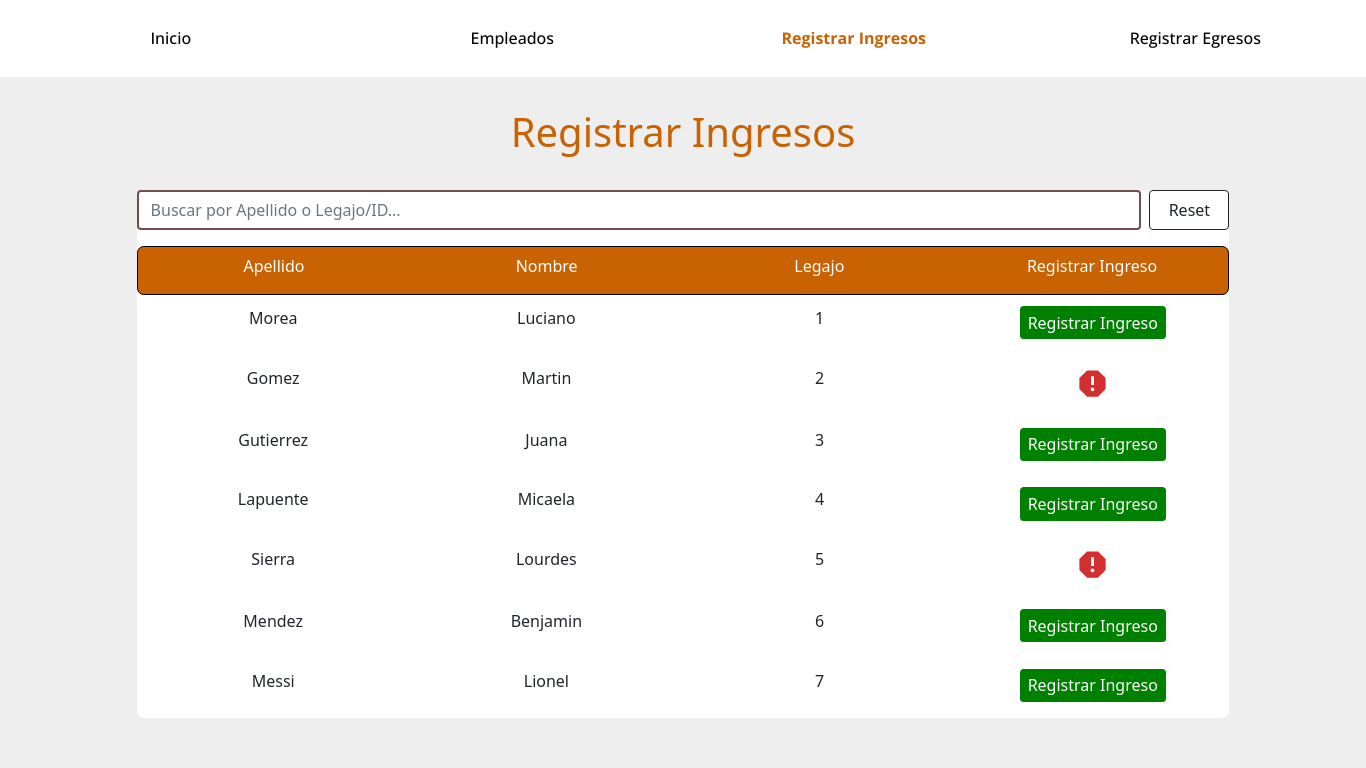
Test: Ingresos › tooltip se encuentra trabajando
Click the link "Registrar Ingresos" at (854, 38), box [782,26,926,50]
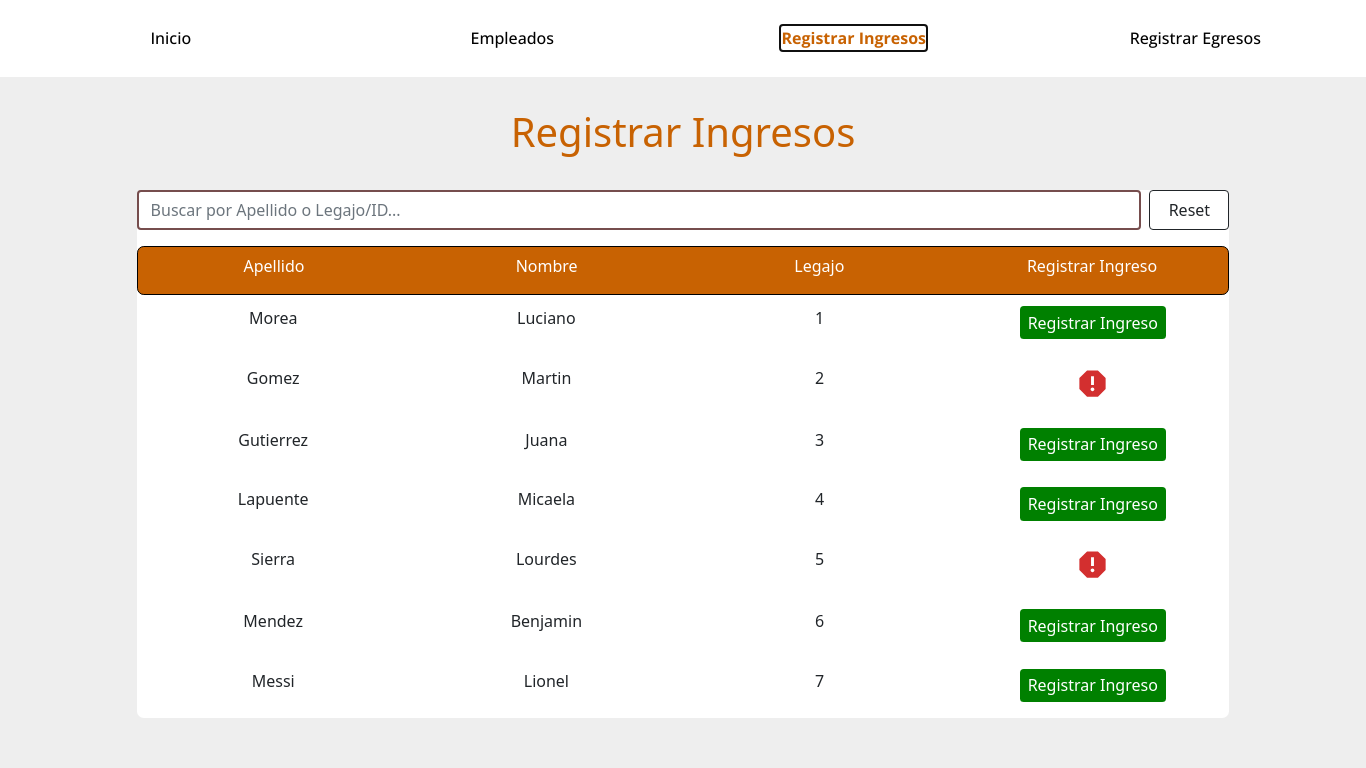
Expected: the search field is shown, [137,190,1141,230]
Hover over the icon with test id "ReportIcon" in the row of "Martin" at (1093, 384), box [1075,366,1110,401]
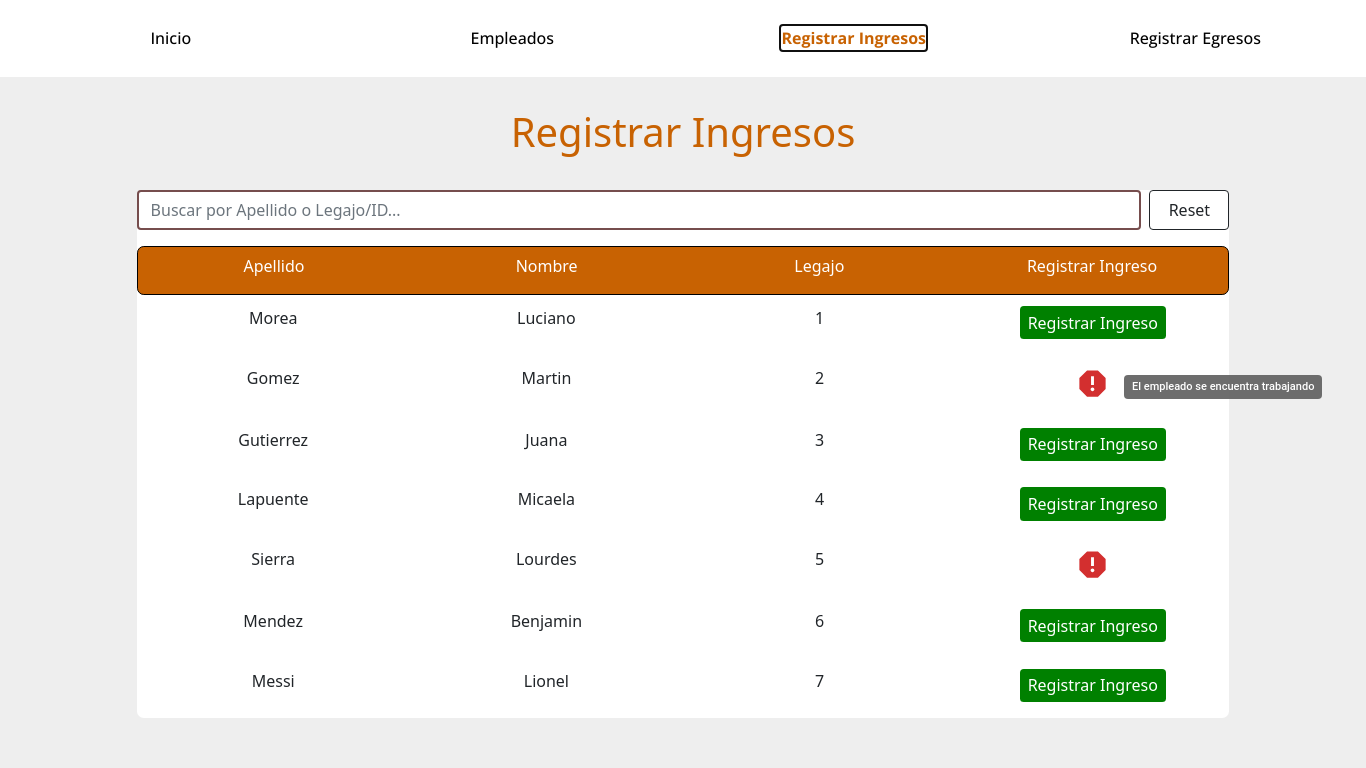
Now the text "El empleado se encuentra trabajando" is shown, box [1124,374,1322,399]
Move the pointer off the icon with test id "ReportIcon" in the row of "Martin", box [1075,366,1110,401]
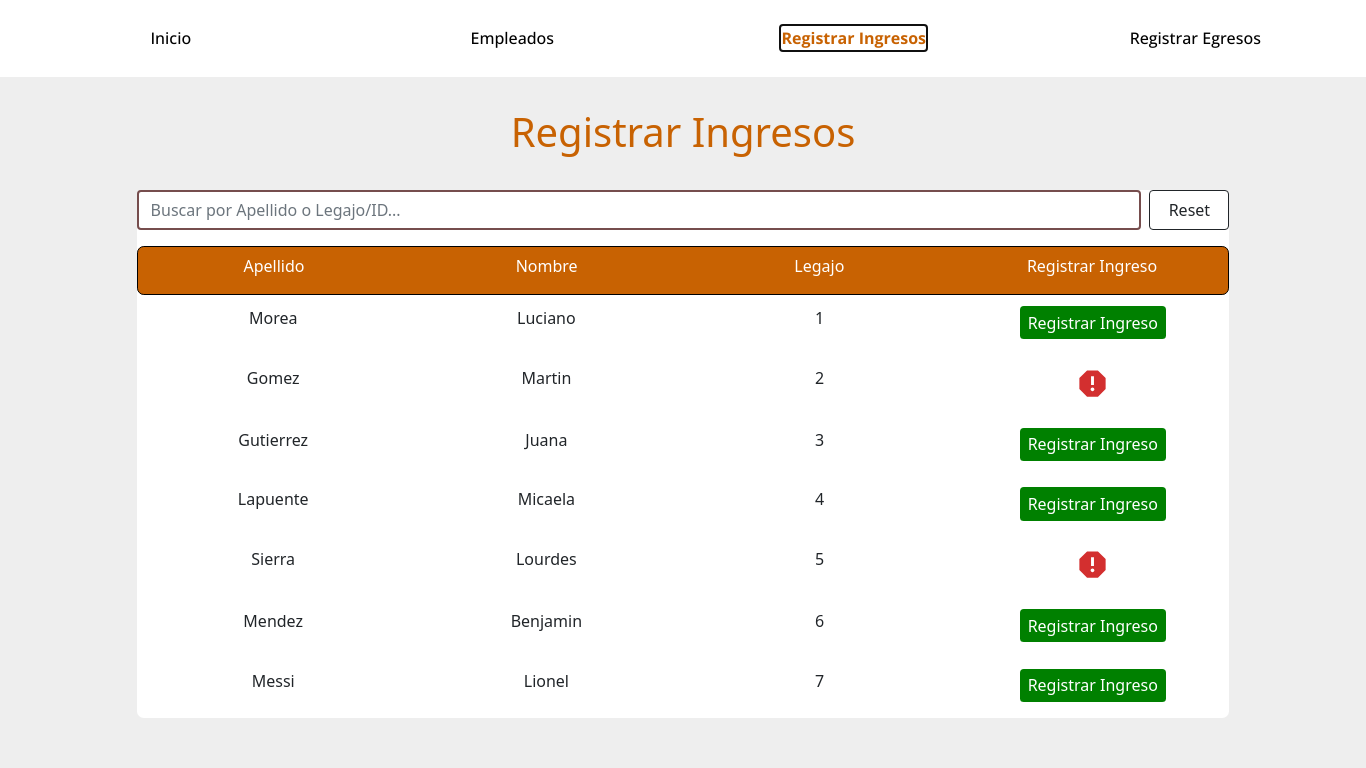
Now the text "El empleado se encuentra trabajando" is gone
